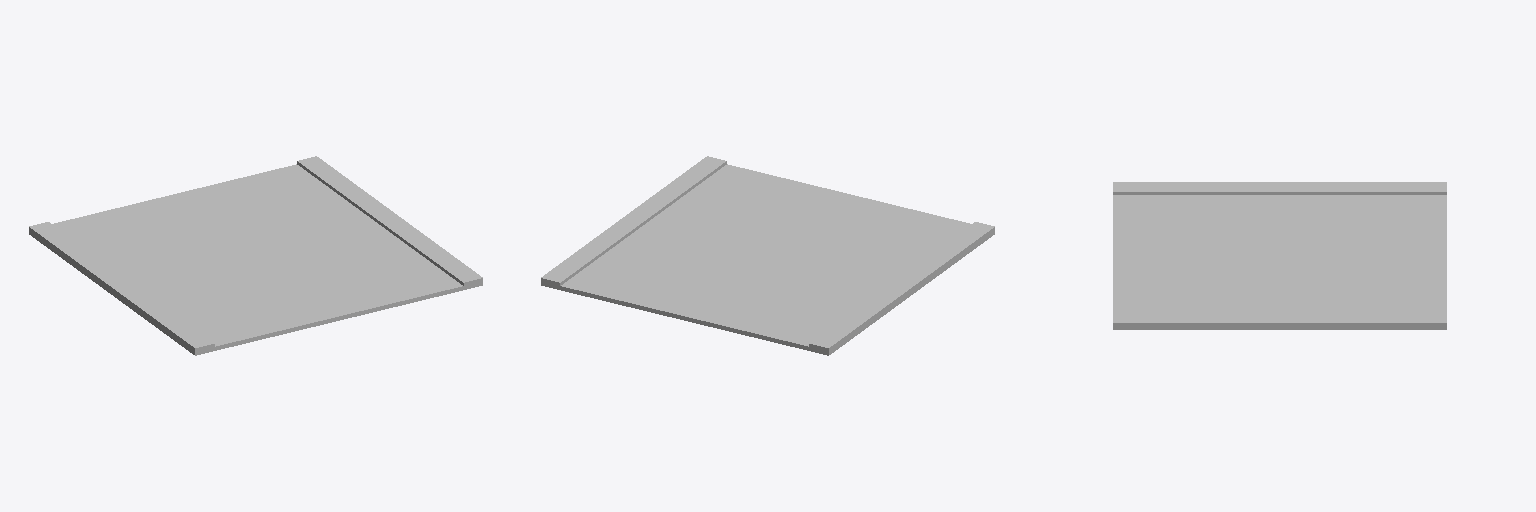
Rendered from road.obj.
3 renders of one model, left to right at view 1: azimuth 30°, elevation 25°; view 2: azimuth 150°, elevation 25°; view 3: azimuth 270°, elevation 25°, orthographic.
Parts seen in each view (by area): view 1: Road2; view 2: Road2; view 3: Road2.
Part boxes in pixels (left/top/right/bottom): Road2: left=29, top=156, right=482, bottom=355; Road2: left=541, top=156, right=994, bottom=355; Road2: left=1113, top=182, right=1446, bottom=329.
Bounding box in the file's own units: 2 × 0.05 × 2.